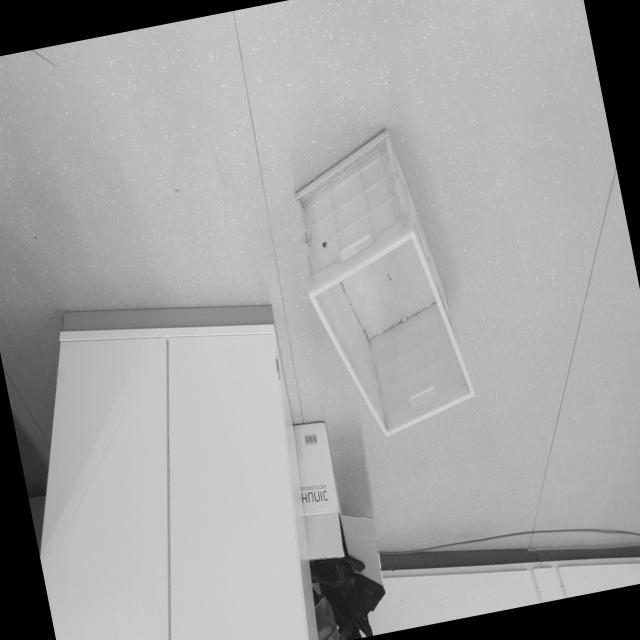box: (269, 115, 488, 458)
